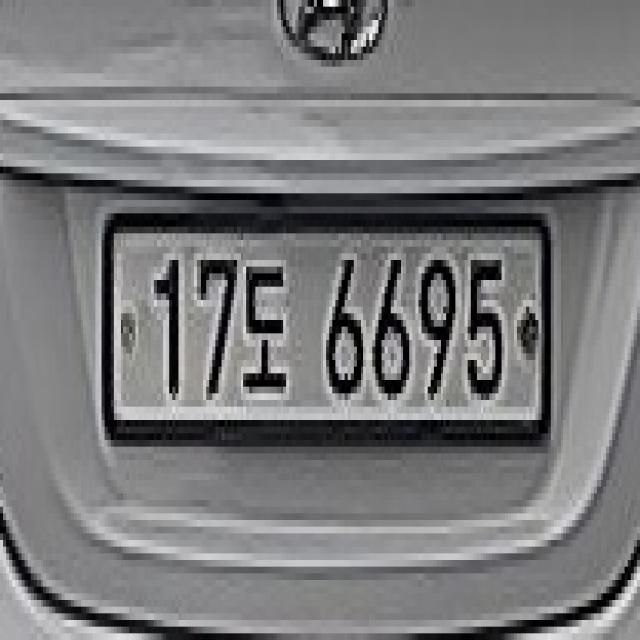1: (150, 246, 188, 406)
5: (462, 246, 508, 406)
6: (323, 240, 369, 407), (366, 246, 412, 406)
7: (194, 246, 240, 406)
9: (412, 240, 462, 407)
do: (240, 253, 295, 400)
license_plate: (95, 207, 554, 453)
